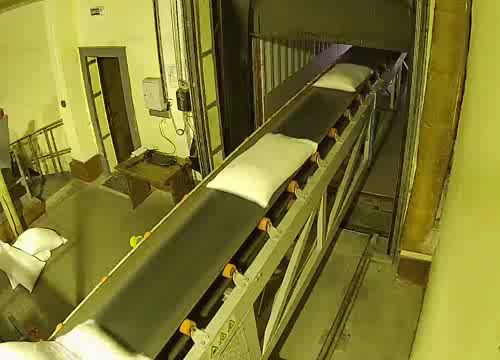bag: (206, 131, 324, 207), (0, 310, 161, 360), (310, 61, 377, 93)
